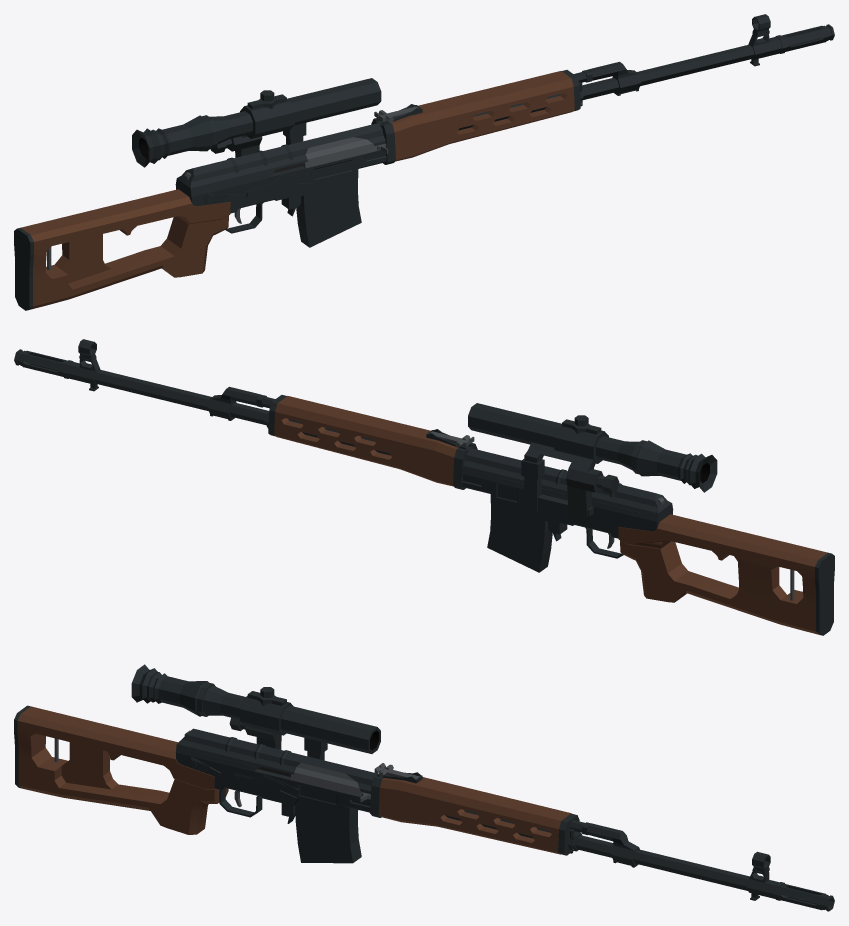
The model's file is DragunovSniper.glb.
3 renders of one model, top to bottom at view 1: azimuth 30°, elevation 25°; view 2: azimuth 150°, elevation 25°; view 3: azimuth 330°, elevation 25°, orthographic.
Parts seen in each view (by area): view 1: dragunob; view 2: dragunob; view 3: dragunob.
Part boxes in pixels (x1,y1,x2,y2): dragunob: [14, 14, 834, 310]; dragunob: [14, 339, 834, 635]; dragunob: [14, 664, 834, 911].
Bounding box in the file's own units: 5.3 × 1.01 × 0.331.
Materials: 5 (1 with a texture image).
